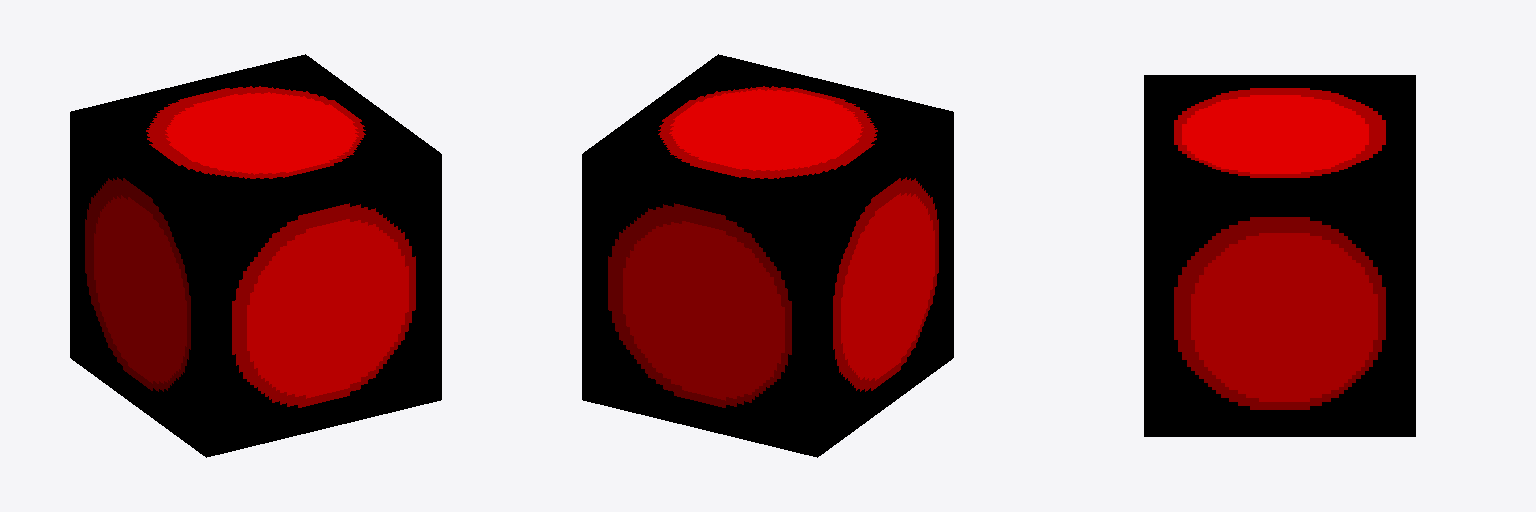
The picture shows the model from 3 angles: view 1: azimuth 30°, elevation 25°; view 2: azimuth 150°, elevation 25°; view 3: azimuth 270°, elevation 25°; orthographic projection.
Parts seen in each view (by area): view 1: button; view 2: button; view 3: button.
Boxes of the visible parts, x1=… form: button: x1=70, y1=54, x2=441, y2=457; button: x1=582, y1=54, x2=953, y2=457; button: x1=1144, y1=75, x2=1415, y2=436.
Bounding box in the file's own units: 1 × 1 × 1.
1 materials, 1 textured.